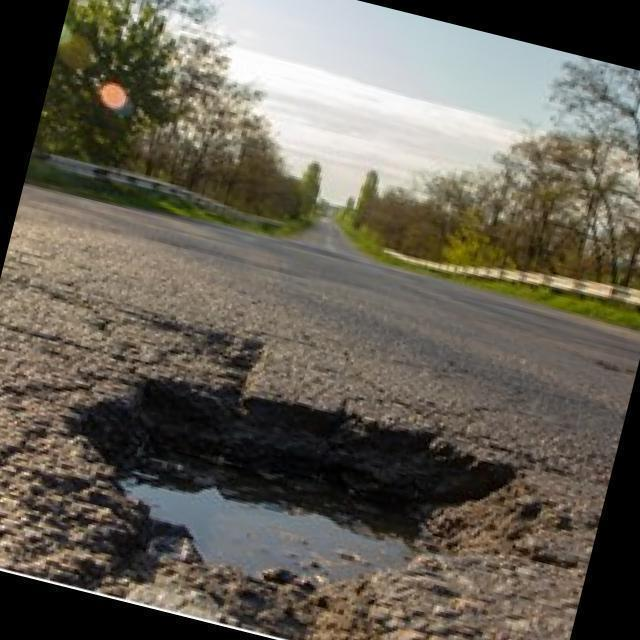pothole: (28, 342, 567, 640)
